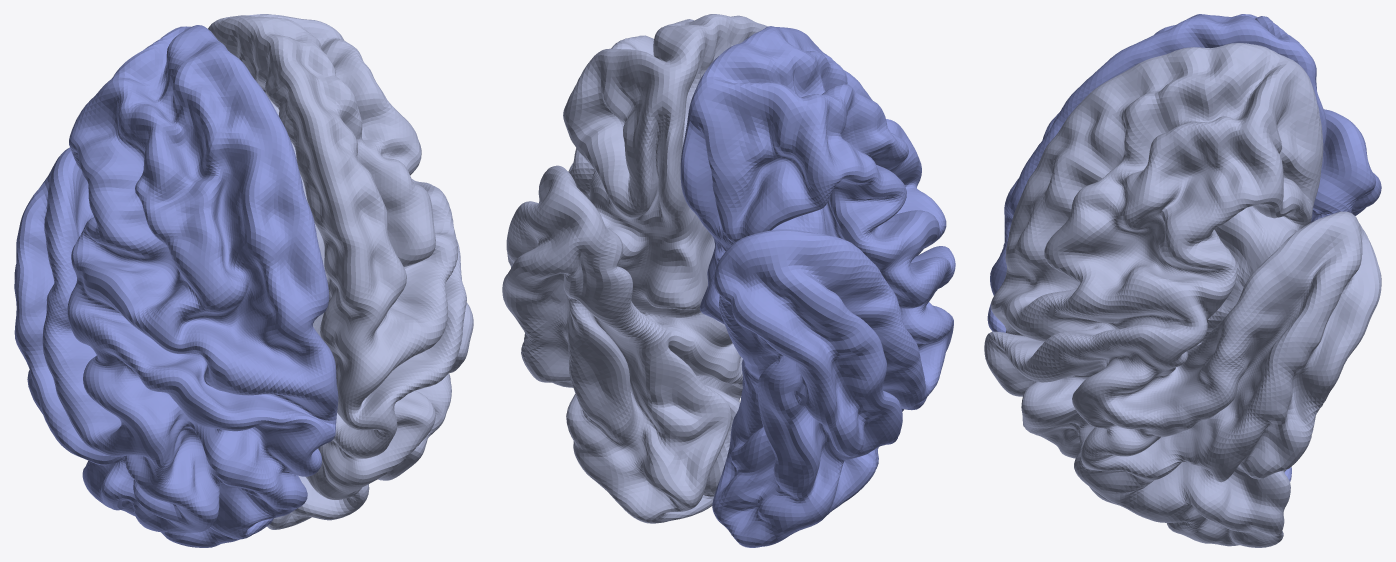
The model's file is cerveau.glb.
The picture shows the model from 3 angles, left to right: view 1: azimuth 30°, elevation 25°; view 2: azimuth 150°, elevation 25°; view 3: azimuth 270°, elevation 25°; orthographic projection. The views are drawn at different scales.
Visible parts, largest first — view 1: hemisphere_left, hemisphere_right; view 2: hemisphere_left, hemisphere_right; view 3: hemisphere_right, hemisphere_left.
Part boxes in pixels (x1,y1,x2,y2): hemisphere_left: (14,25,338,547); hemisphere_right: (208,14,473,529); hemisphere_left: (680,26,955,547); hemisphere_right: (502,14,767,523); hemisphere_right: (984,43,1381,547); hemisphere_left: (987,14,1381,481).
Size of the model in its own units: 138 by 174 by 127.
